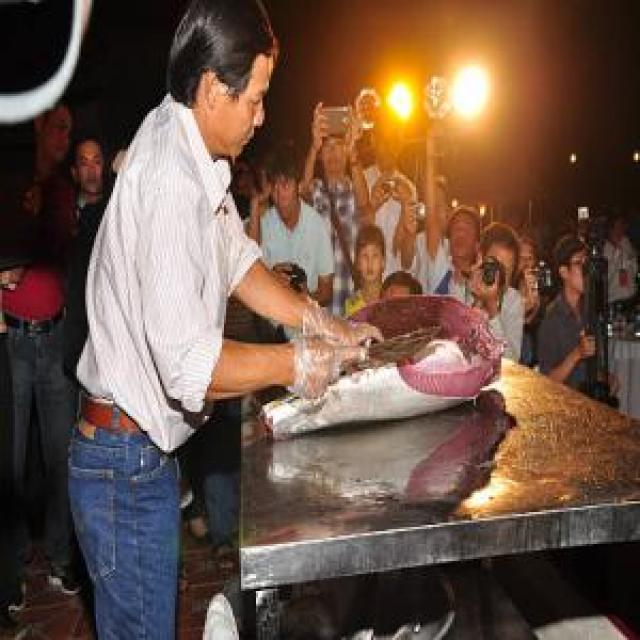knife: (260, 318, 456, 395)
